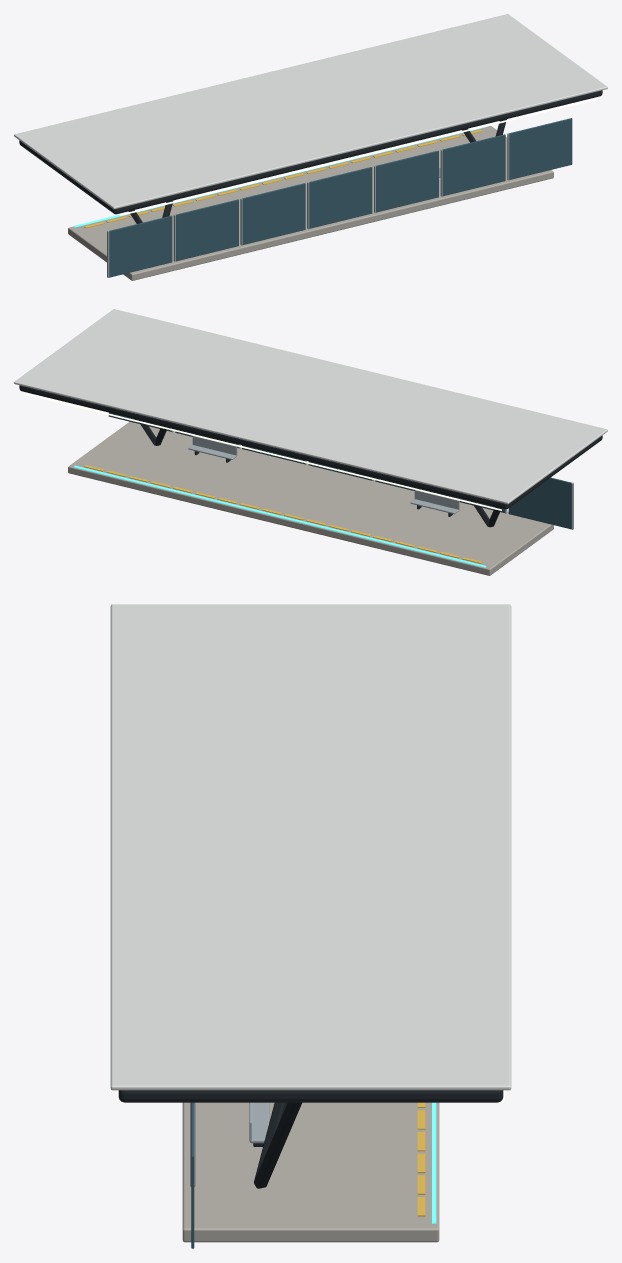
The model's file is station-CiFzGxgd.glb.
3 renders of one model, top to bottom at view 1: azimuth 30°, elevation 25°; view 2: azimuth 150°, elevation 25°; view 3: azimuth 270°, elevation 25°, orthographic. The views are drawn at different scales.
Visible parts, largest first — view 1: Aluminium roof, Station_Glazing, Platform, Station_Graphite, Station_Light, Station_Amber, Station_Metal, Station_Cyan; view 2: Aluminium roof, Platform, Station_Graphite, Station_Glazing, Station_Metal, Station_Light, Station_Amber, Station_Cyan; view 3: Aluminium roof, Platform, Station_Graphite, Station_Metal, Station_Amber.
Part boxes in pixels (x1,y1,x2,y2): Aluminium roof: (14,14,607,209); Station_Glazing: (109,118,572,277); Platform: (68,125,553,280); Station_Graphite: (19,90,602,223); Station_Light: (120,98,598,215); Station_Amber: (84,129,482,228); Station_Metal: (107,133,509,277); Station_Cyan: (74,127,485,227); Aluminium roof: (14,309,607,504); Platform: (68,422,553,575); Station_Graphite: (19,385,602,527); Station_Glazing: (108,412,571,529); Station_Metal: (171,430,573,529); Station_Light: (23,393,501,510); Station_Amber: (84,465,482,563); Station_Cyan: (74,465,486,567); Aluminium roof: (110,604,511,1090); Platform: (182,1102,439,1242); Station_Graphite: (118,1090,503,1188); Station_Metal: (190,1102,269,1186); Station_Amber: (417,1102,425,1216).
Size of the model in its own units: 44.5 by 8.25 by 15.6.
